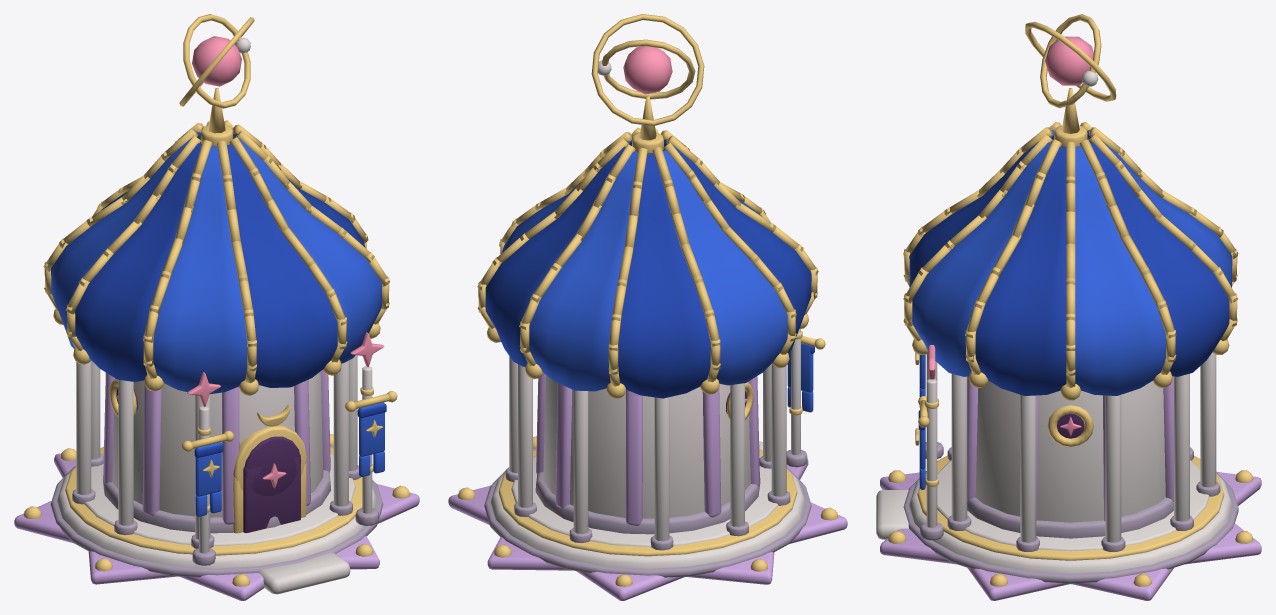
The model's file is Sanctum.glb.
3 views of the same model, side by side, from view 1: azimuth 30°, elevation 25°; view 2: azimuth 150°, elevation 25°; view 3: azimuth 270°, elevation 25° (orthographic). The views are drawn at different scales.
Visible parts, largest first — view 1: Sanctum; view 2: Sanctum; view 3: Sanctum.
Boxes of the visible parts, x1=… form: Sanctum: x1=14, y1=14, x2=419, y2=600; Sanctum: x1=448, y1=14, x2=847, y2=600; Sanctum: x1=876, y1=14, x2=1261, y2=600.
Size of the model in its own units: 2.89 by 4.21 by 2.91.
